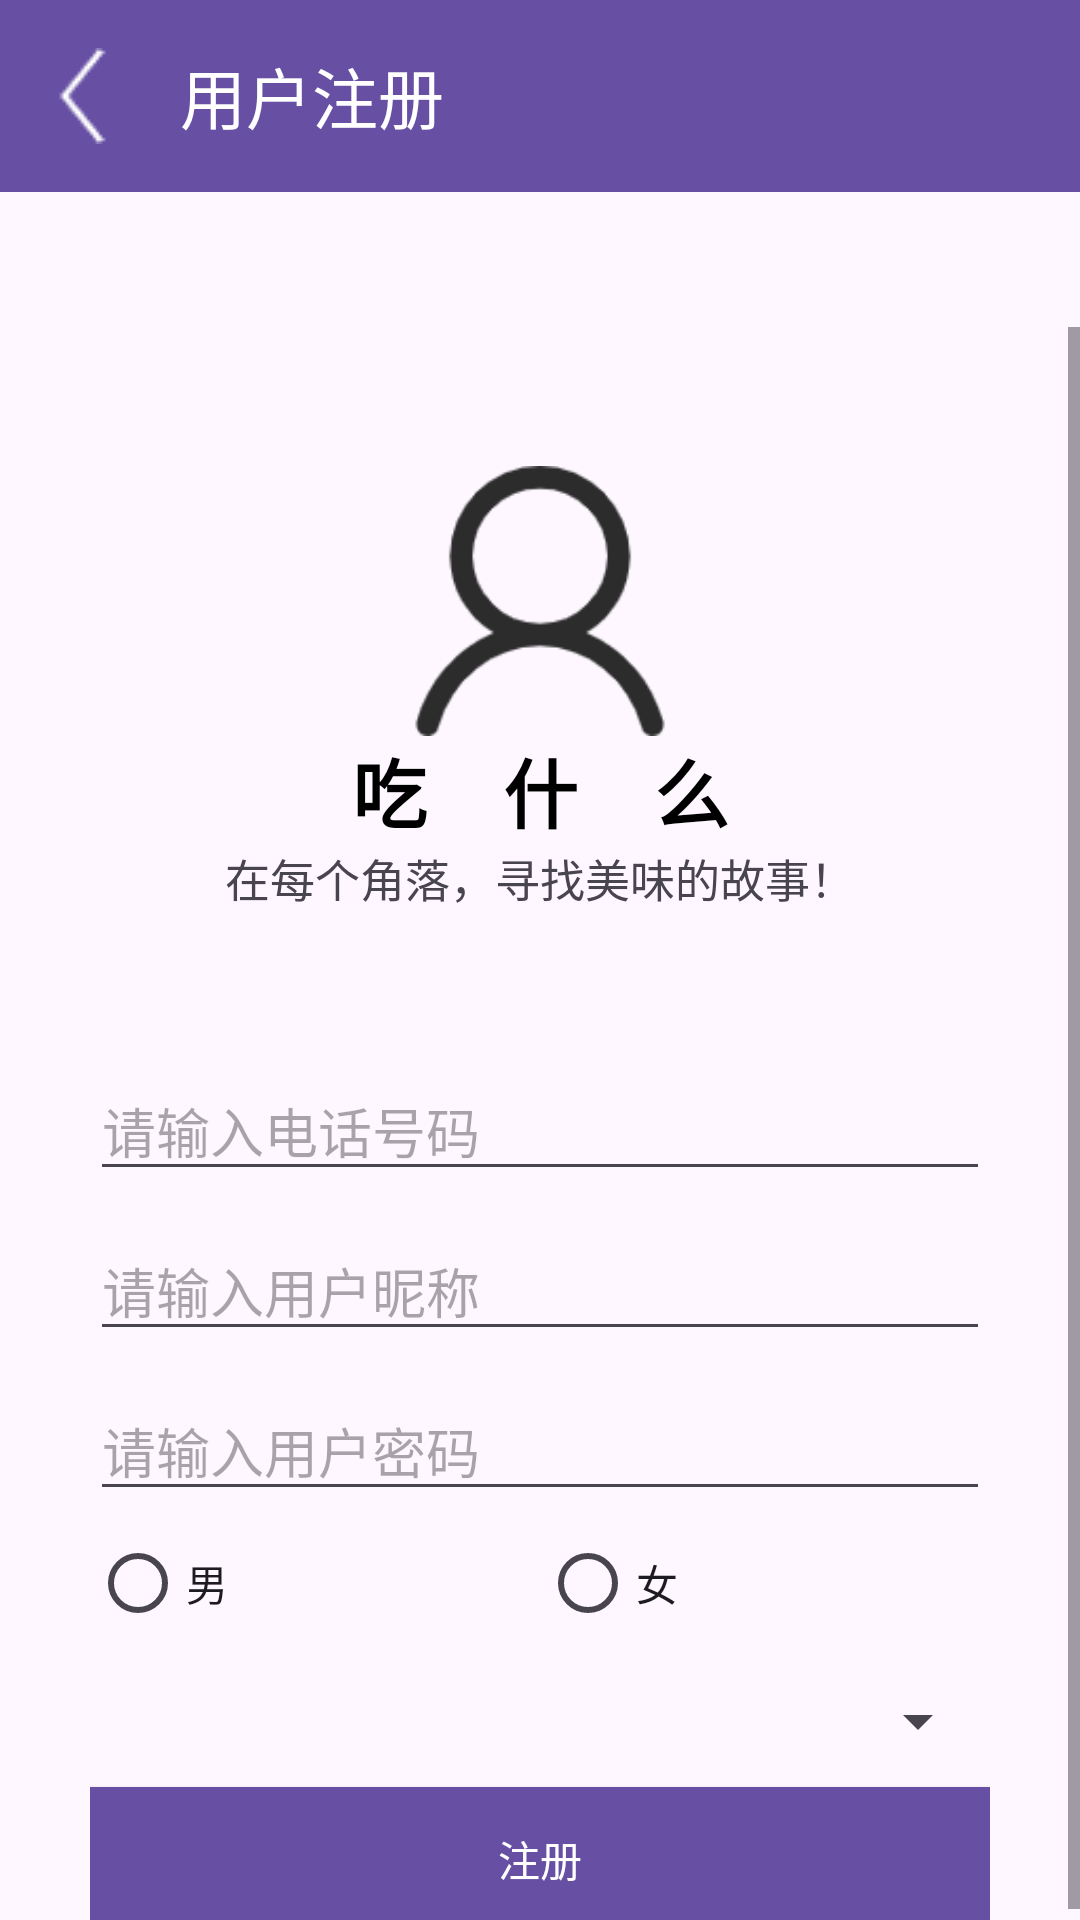

Where icons sit on this 1080×1920 app screen, as (x1, y1, x2, y2):
user: (415, 466, 665, 736)
